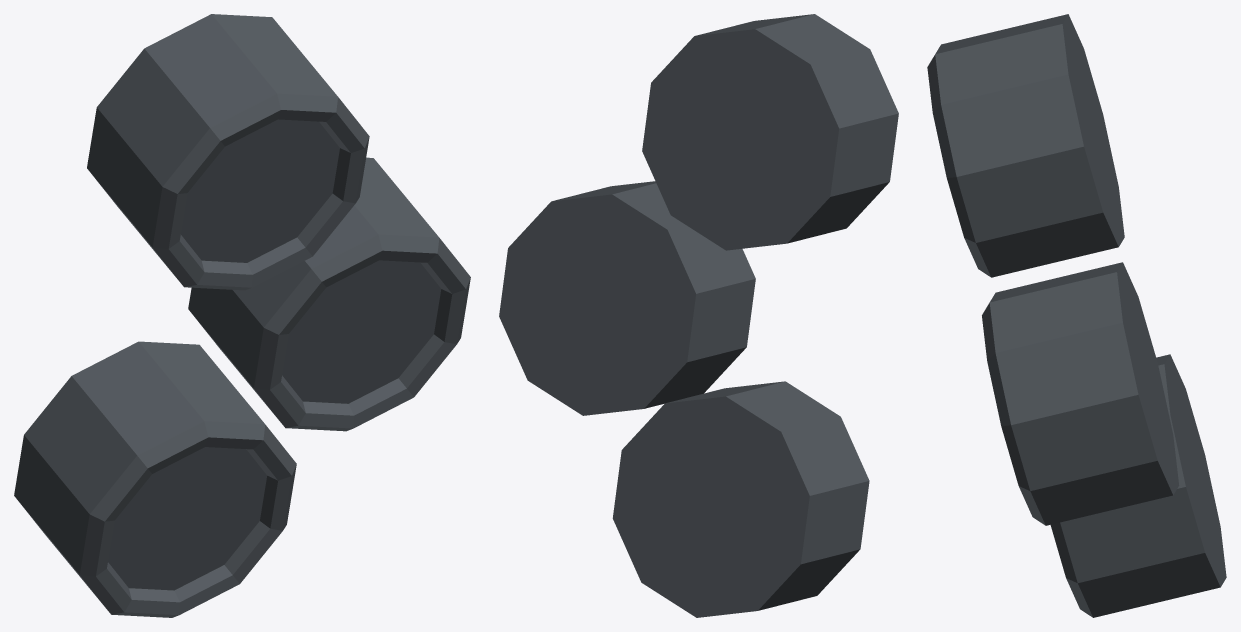
File: Dropship_02_Lights_Red.fbx
3 renders of one model, left to right at view 1: azimuth 30°, elevation 25°; view 2: azimuth 150°, elevation 25°; view 3: azimuth 270°, elevation 25°, orthographic. The views are drawn at different scales.
Parts seen in each view (by area): view 1: Dropship_02_Lights_Red; view 2: Dropship_02_Lights_Red; view 3: Dropship_02_Lights_Red.
Part boxes in pixels (x1,y1,x2,y2): Dropship_02_Lights_Red: (14, 14, 470, 617); Dropship_02_Lights_Red: (499, 14, 898, 617); Dropship_02_Lights_Red: (927, 14, 1226, 617).
Size of the model in its own units: 110 by 180 by 82.17.
Materials: 2 (2 with a texture image).
